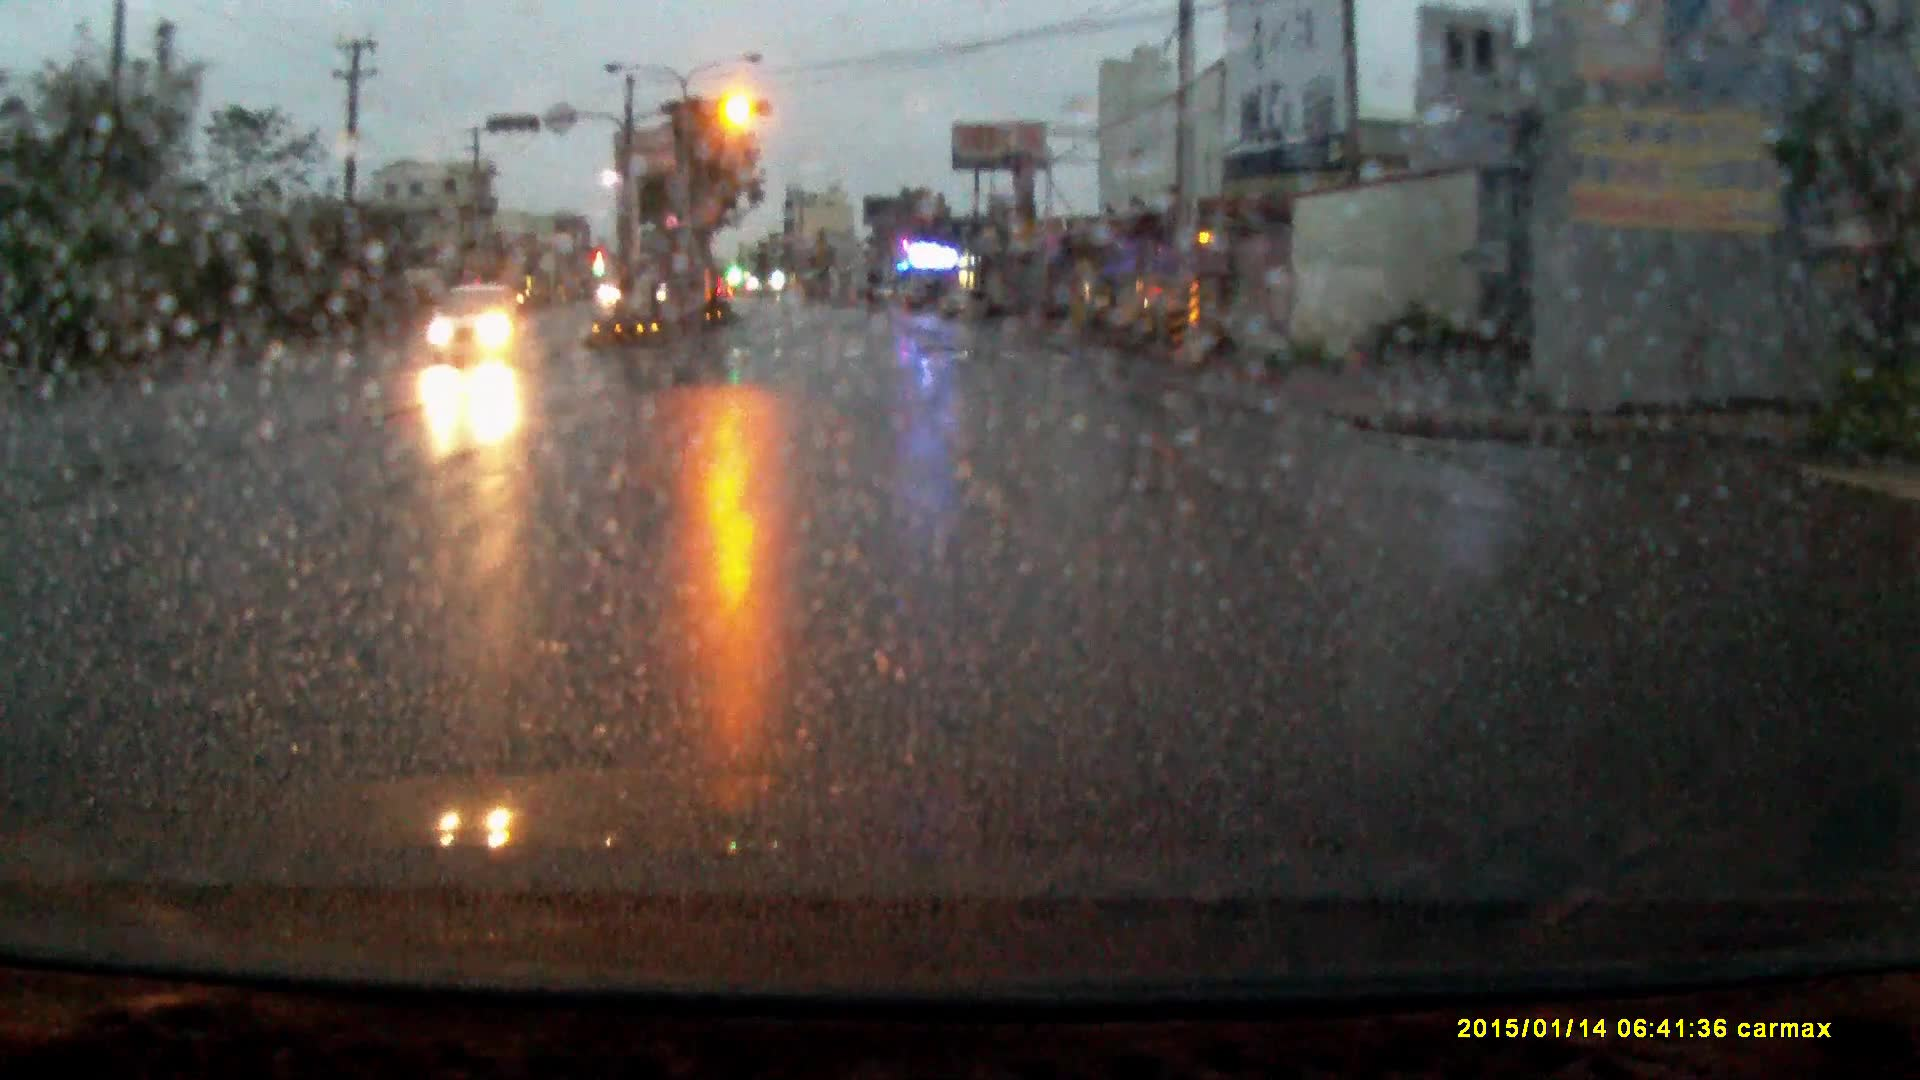vehicle: (429, 286, 524, 367)
